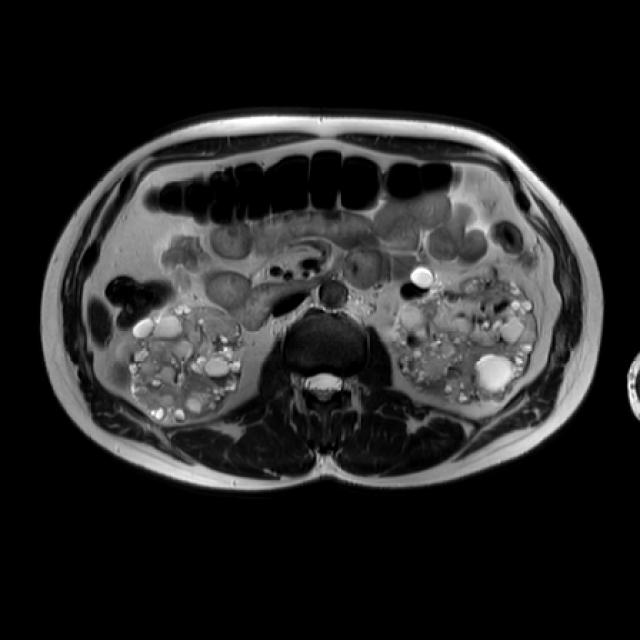sag: (130, 304, 245, 420)
sol: (389, 266, 537, 404)
